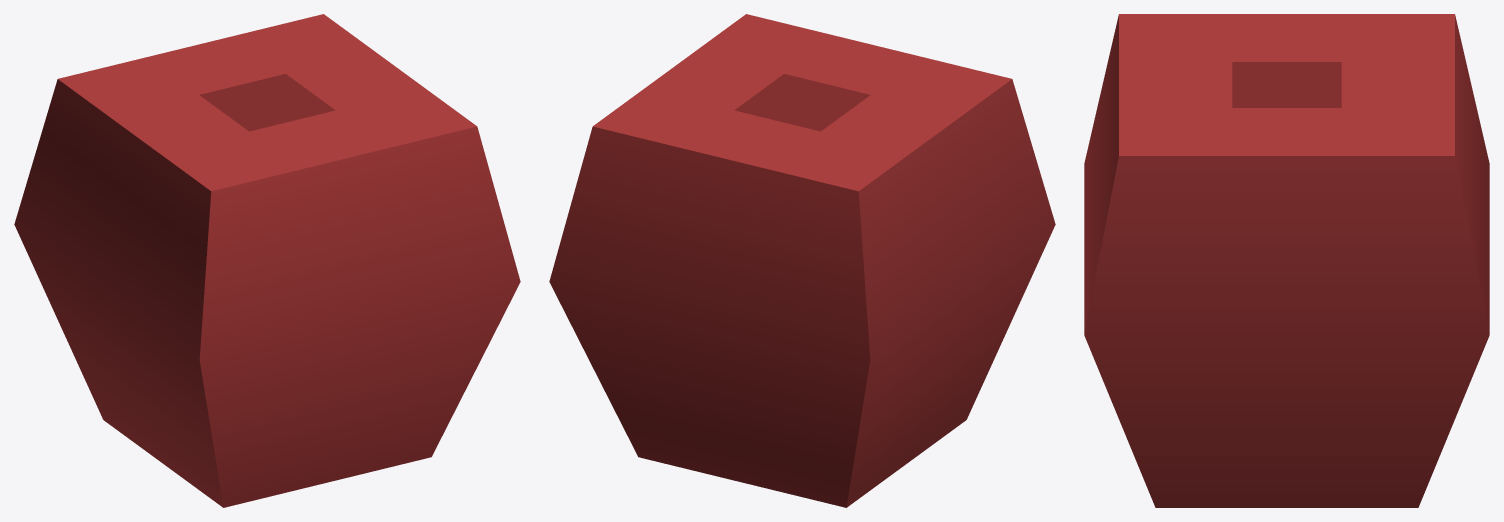
Rendered from SI_Food_Organic_Apple_03.fbx.
3 renders of one model, left to right at view 1: azimuth 30°, elevation 25°; view 2: azimuth 150°, elevation 25°; view 3: azimuth 270°, elevation 25°, orthographic. The views are drawn at different scales.
Visible parts, largest first — view 1: SI_Food_Organic_Apple_03; view 2: SI_Food_Organic_Apple_03; view 3: SI_Food_Organic_Apple_03.
Part boxes in pixels (bbox=[...]): SI_Food_Organic_Apple_03: bbox=[14, 14, 520, 507]; SI_Food_Organic_Apple_03: bbox=[549, 14, 1055, 507]; SI_Food_Organic_Apple_03: bbox=[1084, 14, 1489, 507].
Bounding box in the file's own units: 0.327 × 0.327 × 0.327.
